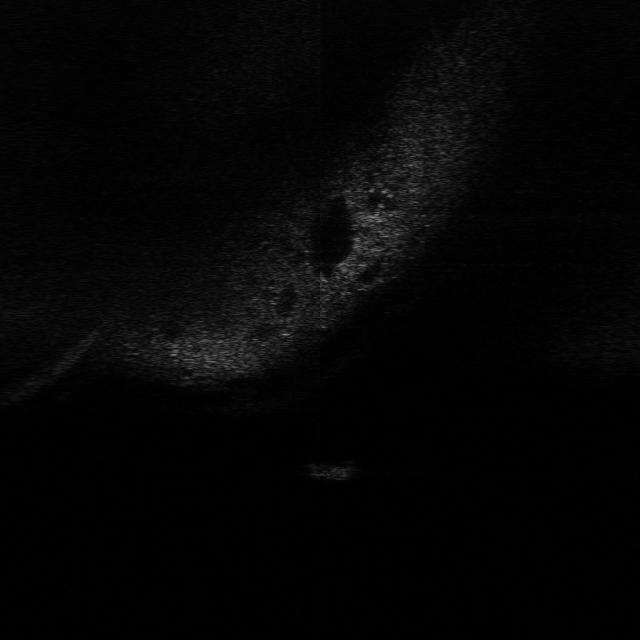cube: (302, 456, 359, 484)
